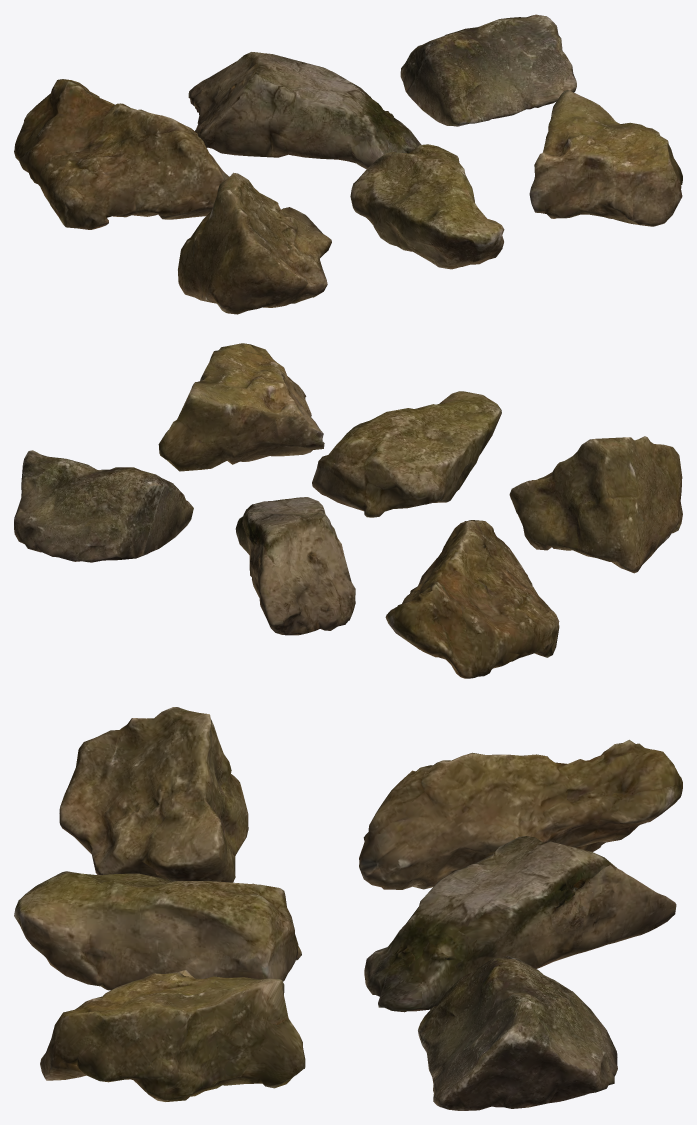
File: rock_moss_set_01.glb
The picture shows the model from 3 angles, top to bottom: view 1: azimuth 30°, elevation 25°; view 2: azimuth 150°, elevation 25°; view 3: azimuth 270°, elevation 25°; orthographic projection. The views are drawn at different scales.
Visible parts, largest first — view 1: rock_moss_set_01_rock01; view 2: rock_moss_set_01_rock01; view 3: rock_moss_set_01_rock01.
Part boxes in pixels (x1=…): rock_moss_set_01_rock01: x1=14, y1=14, x2=682, y2=314; rock_moss_set_01_rock01: x1=14, y1=343, x2=682, y2=678; rock_moss_set_01_rock01: x1=14, y1=707, x2=682, y2=1110.
Bounding box in the file's own units: 8 × 1.76 × 6.94.
Materials: 1 (1 with a texture image).
